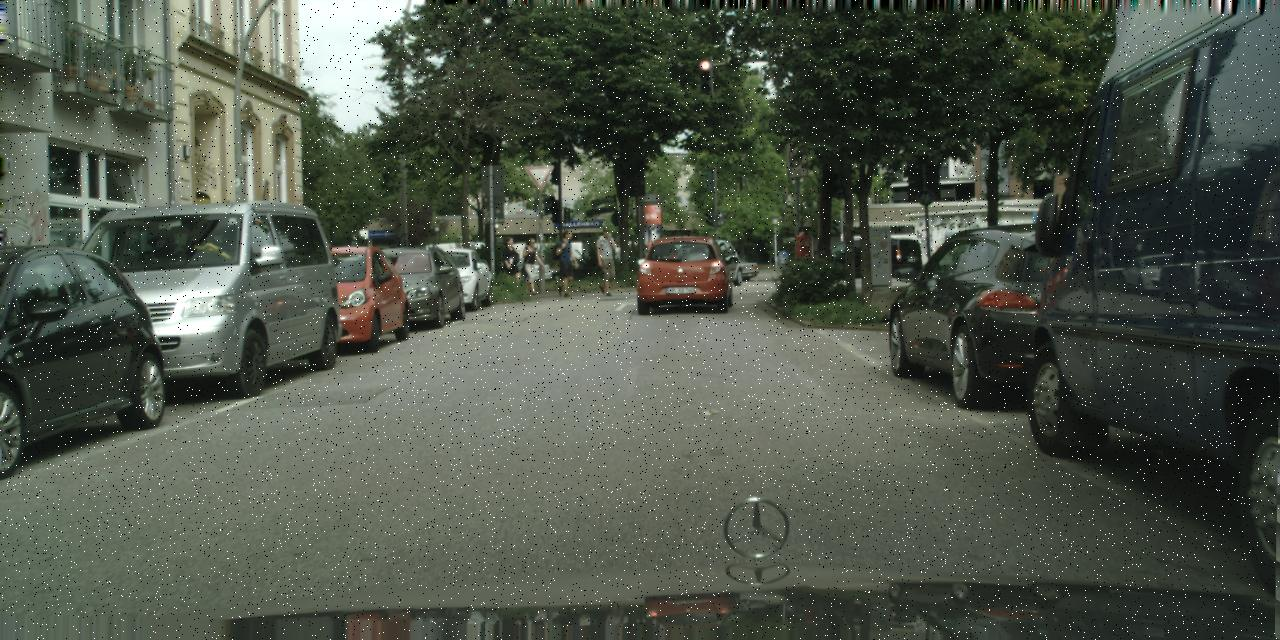ped: (591, 226, 619, 293), (551, 229, 578, 296), (519, 237, 541, 293), (498, 236, 520, 292)
